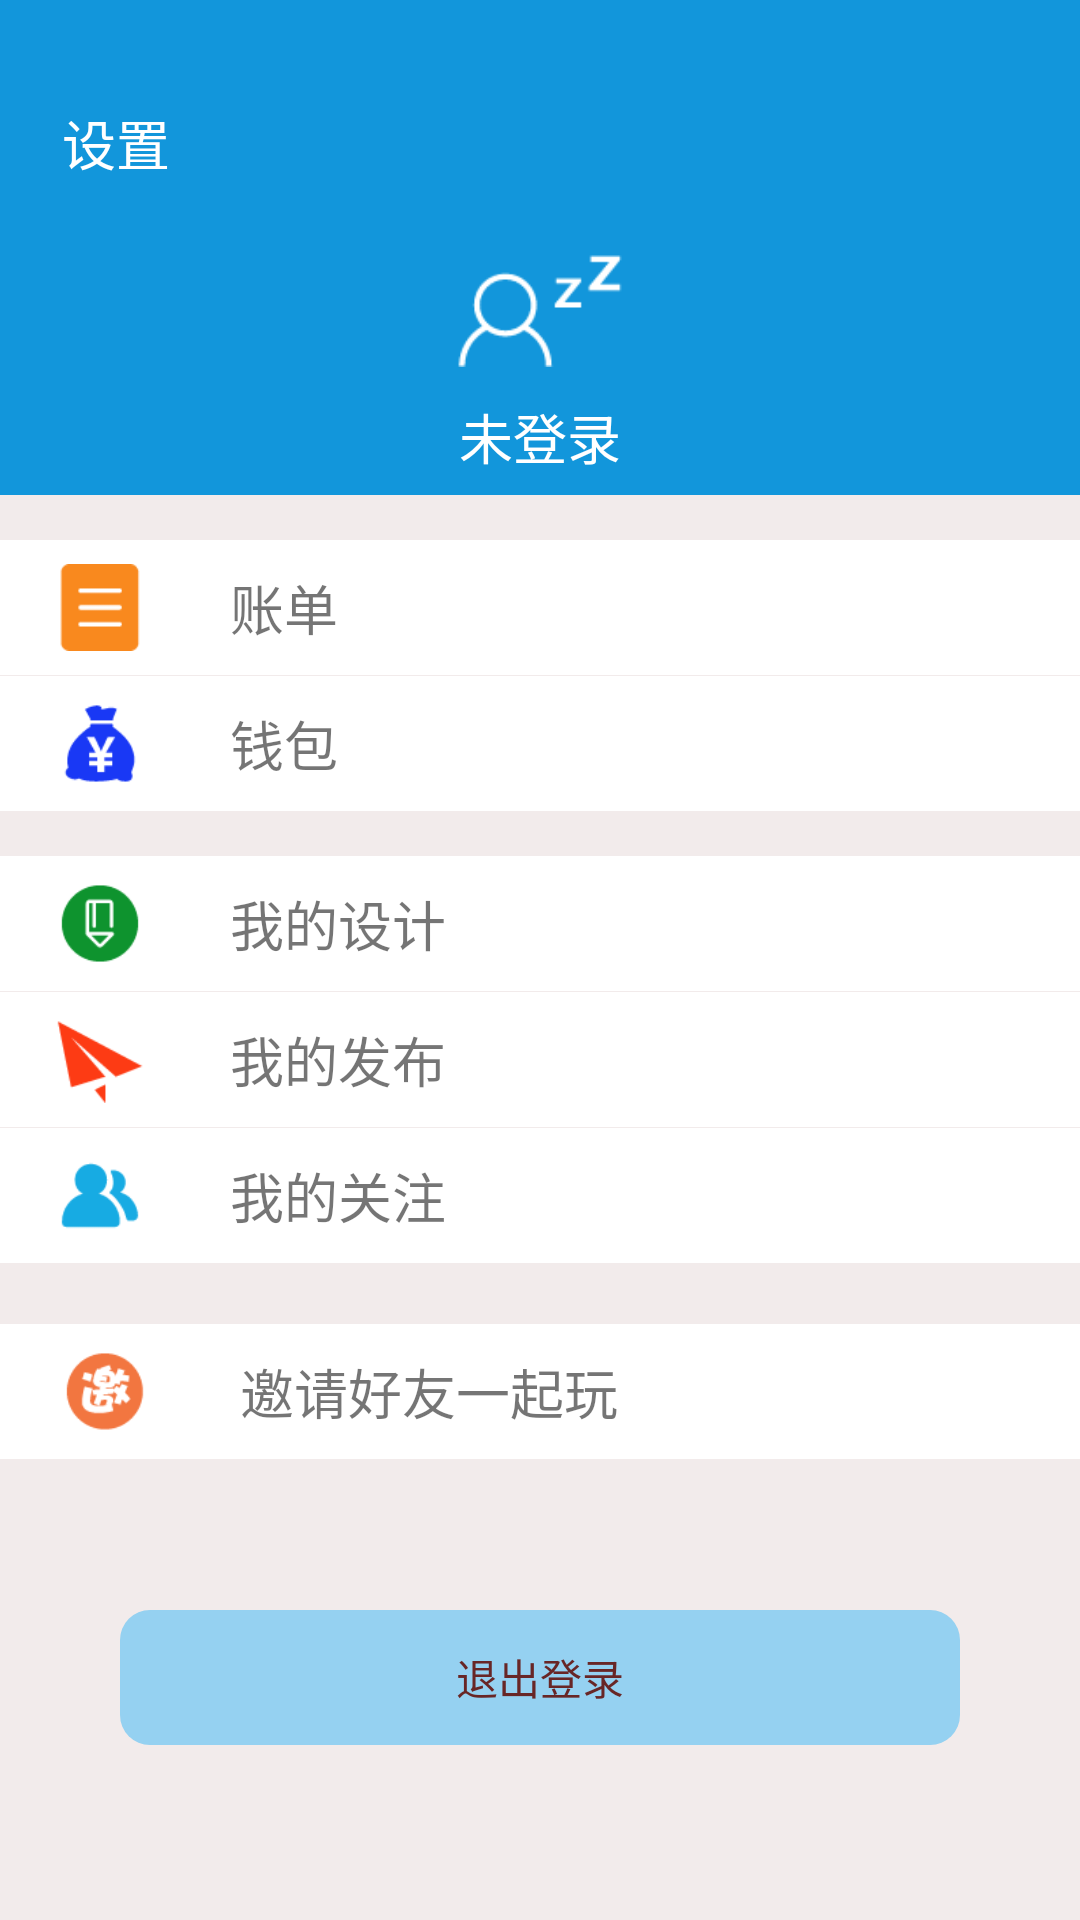

Icon bounding boxes for this 1080 x 1920 phone screenshot, format Rect(x1, y1, x2, y2):
bill: Rect(60, 564, 140, 651)
friend: Rect(61, 1163, 139, 1228)
mydesign: Rect(61, 885, 139, 962)
publish: Rect(57, 1021, 142, 1103)
wallet: Rect(65, 705, 135, 782)
